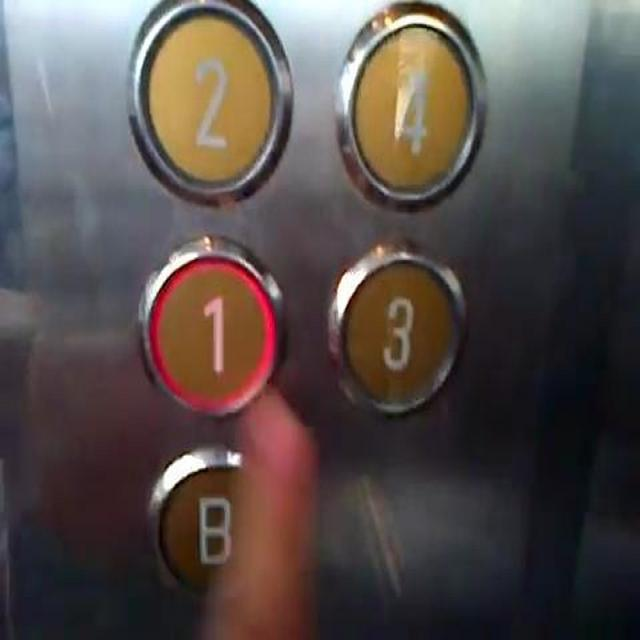1: (135, 235, 286, 421)
2: (124, 0, 294, 207)
3: (324, 234, 465, 418)
4: (330, 0, 484, 209)
B: (145, 446, 279, 614)
